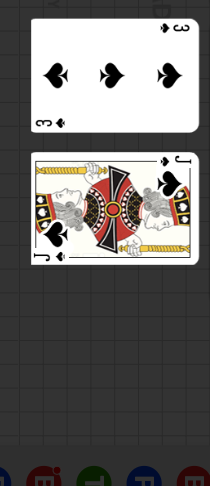3S: (35, 116, 68, 129)
JS: (33, 220, 80, 264), (154, 153, 200, 197)
